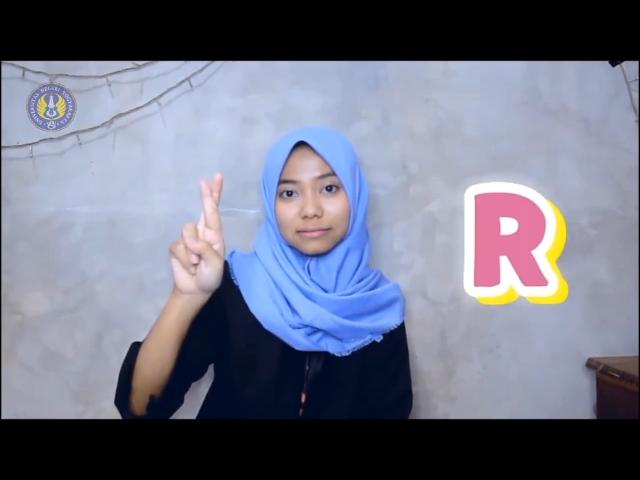R: (168, 174, 232, 294)
